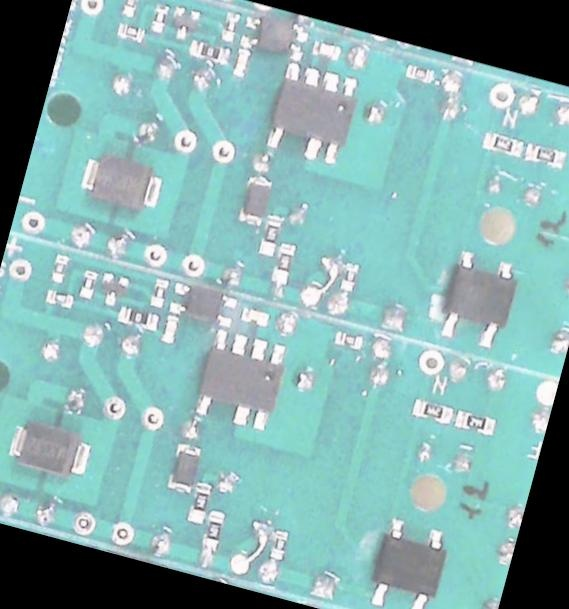chip-capacitor: (238, 303, 273, 329), (228, 45, 253, 80), (310, 38, 344, 62), (157, 312, 180, 346)
chip-resistor: (521, 137, 569, 171), (408, 395, 456, 428), (255, 210, 286, 260), (183, 476, 214, 526), (268, 238, 299, 286), (479, 127, 526, 158), (185, 36, 232, 67), (453, 406, 498, 438), (114, 302, 161, 332), (198, 507, 227, 554), (330, 326, 367, 353), (401, 60, 437, 86), (267, 524, 291, 561), (42, 285, 76, 311), (75, 266, 100, 301), (47, 250, 72, 285), (149, 0, 173, 34), (338, 259, 362, 292), (114, 20, 147, 44), (219, 9, 242, 42), (148, 275, 171, 308), (118, 0, 144, 21)
diode: (74, 146, 170, 218), (2, 413, 97, 482), (162, 437, 207, 497), (233, 170, 274, 230)
ic: (187, 324, 293, 437), (261, 56, 364, 167), (435, 247, 524, 353), (362, 512, 456, 609), (235, 9, 312, 63), (165, 277, 241, 330)
transistor: (94, 267, 133, 310), (166, 2, 202, 43)
